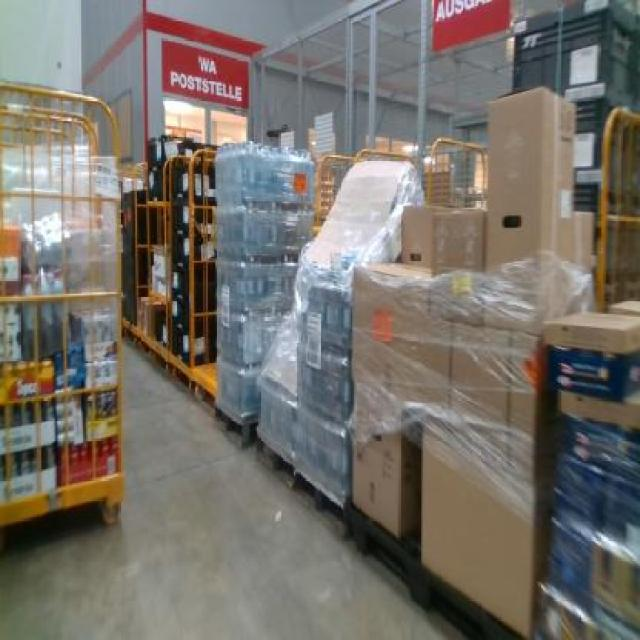ground: (0, 339, 480, 638)
pallet: (350, 508, 525, 638), (256, 437, 349, 547), (119, 316, 221, 416), (0, 473, 131, 548), (209, 400, 263, 448)
